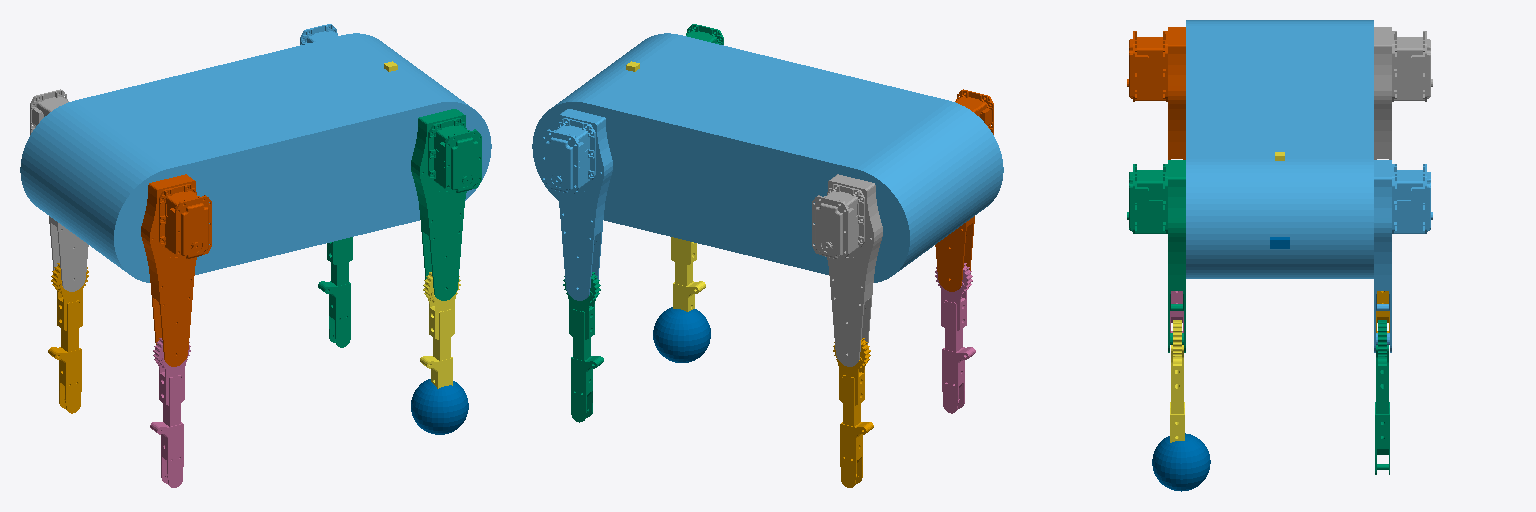
URDF robot description (quadrupedal_robot):
<?xml version="1.0" ?>
<!-- =================================================================================== -->
<!-- |    This document was autogenerated by xacro from quadrupedal_robot.xacro        | -->
<!-- |    EDITING THIS FILE BY HAND IS NOT RECOMMENDED                                 | -->
<!-- =================================================================================== -->
<robot name="quadrupedal_robot" xmlns:xacro="https://ros.org/wiki/xacro">
  <link name="world"/>
  <joint name="world_joint" type="floating">
    <parent link="world"/>
    <child link="body"/>
    <origin rpy="0 0 0" xyz="0 0 0"/>
  </joint>
  <link name="body">
    <inertial>
      <mass value="1.43533"/>
      <inertia ixx="0.013997409758" ixy="0.0" ixz="0.0" iyy="0.032039793016" iyz="0.0" izz="0.029239204023"/>
    </inertial>
    <visual>
      <geometry>
        <mesh filename="package://quadrupedal_description/meshes/stl/body_assem_alt.stl"/>
      </geometry>
    </visual>
    <collision>
      <geometry>
        <mesh filename="package://quadrupedal_description/meshes/stl/body_assem_alt.stl"/>
      </geometry>
    </collision>
  </link>
  <gazebo reference="body">
    <mu1 value="1000.0"/>
    <mu2 value="2000.0"/>
    <kp value="1000000"/>
    <kd value="1.0"/>
    <material>Gazebo/Blue</material>
  </gazebo>
  <joint name="body_joint1" type="revolute">
    <parent link="body"/>
    <child link="upper_link1"/>
    <axis xyz="0 1 0"/>
    <origin rpy="0 0 0" xyz="0.15 -0.107 0.06"/>
    <dynamics damping="0.05"/>
    <limit effort="8.0" lower="-2.5" upper="2.5" velocity="6.0"/>
  </joint>
  <transmission name="body_joint_trans1">
    <type>transmission_interface/SimpleTransmission</type>
    <joint name="body_joint1">
      <hardwareInterface>hardware_interface/EffortJointInterface</hardwareInterface>
    </joint>
    <actuator name="body_motor1">
      <hardwareInterface>hardware_interface/EffortJointInterface</hardwareInterface>
      <mechanismReduction>1</mechanismReduction>
    </actuator>
  </transmission>
  <link name="upper_link1">
    <inertial>
      <mass value="0.307"/>
      <inertia ixx="0.0005696021" ixy="-9.8e-11" ixz="-2.43e-10" iyy="0.000513795097" iyz="7.4601225e-05" izz="0.000137674903"/>
    </inertial>
    <visual>
      <geometry>
        <mesh filename="package://quadrupedal_description/meshes/stl/upper_leg_alt.stl"/>
      </geometry>
    </visual>
    <collision>
      <geometry>
        <mesh filename="package://quadrupedal_description/meshes/stl/upper_leg_alt.stl"/>
      </geometry>
    </collision>
  </link>
  <gazebo reference="upper_link1">
    <mu1 value="1000.0"/>
    <mu2 value="2000.0"/>
    <kp value="1000000"/>
    <kd value="1.0"/>
    <material>Gazebo/Red</material>
  </gazebo>
  <joint name="upper_joint1" type="revolute">
    <parent link="upper_link1"/>
    <child link="under_link1"/>
    <axis xyz="0 1 0"/>
    <origin rpy="0 0 0" xyz="0 0.00425 -0.13"/>
    <dynamics damping="0.05"/>
    <limit effort="8.0" lower="-2.5" upper="2.5" velocity="6.0"/>
  </joint>
  <transmission name="upper_joint_trans1">
    <type>transmission_interface/SimpleTransmission</type>
    <joint name="upper_joint1">
      <hardwareInterface>hardware_interface/EffortJointInterface</hardwareInterface>
    </joint>
    <actuator name="upper_motor1">
      <hardwareInterface>hardware_interface/EffortJointInterface</hardwareInterface>
      <mechanismReduction>1</mechanismReduction>
    </actuator>
  </transmission>
  <link name="under_link1">
    <inertial>
      <mass value="0.080527"/>
      <inertia ixx="0.000400596397" ixy="1.83755e-07" ixz="-3.142145e-06" iyy="0.00040165997" iyz="2.0733392e-05" izz="6.738557e-06"/>
    </inertial>
    <visual>
      <geometry>
        <mesh filename="package://quadrupedal_description/meshes/stl/under_leg_alt.stl"/>
      </geometry>
    </visual>
    <collision>
      <geometry>
        <mesh filename="package://quadrupedal_description/meshes/stl/under_leg_alt.stl"/>
      </geometry>
    </collision>
  </link>
  <gazebo reference="under_link1">
    <mu1 value="1000.0"/>
    <mu2 value="2000.0"/>
    <kp value="1000000"/>
    <kd value="1.0"/>
    <material>Gazebo/Blue</material>
  </gazebo>
  <joint name="tip_joint1" type="fixed">
    <parent link="under_link1"/>
    <child link="tip_link1"/>
    <axis xyz="0 1 0"/>
    <origin rpy="0 0 0" xyz="0 0.0085 -0.13"/>
    <dynamics damping="0.05"/>
    <limit effort="8.0" lower="-2.5" upper="2.5" velocity="6.0"/>
  </joint>
  <link name="tip_link1">
    <inertial>
      <mass value="0.02"/>
      <inertia ixx="0.0003136" ixy="0.0" ixz="0.0" iyy="0.0003136" iyz="0.0" izz="0.0003136"/>
    </inertial>
    <visual>
      <geometry>
        <sphere radius="0.028"/>
      </geometry>
    </visual>
    <collision>
      <geometry>
        <sphere radius="0.028"/>
      </geometry>
    </collision>
  </link>
  <gazebo reference="tip_link1">
    <mu1 value="1000.0"/>
    <mu2 value="2000.0"/>
    <kp value="1000000"/>
    <kd value="1.0"/>
    <material>Gazebo/Blue</material>
  </gazebo>
  <joint name="body_joint2" type="revolute">
    <parent link="body"/>
    <child link="upper_link2"/>
    <axis xyz="0 1 0"/>
    <origin rpy="0 0 0" xyz="-0.15 -0.107 0.06"/>
    <dynamics damping="0.05"/>
    <limit effort="8.0" lower="-2.5" upper="2.5" velocity="6.0"/>
  </joint>
  <transmission name="body_joint_trans2">
    <type>transmission_interface/SimpleTransmission</type>
    <joint name="body_joint2">
      <hardwareInterface>hardware_interface/EffortJointInterface</hardwareInterface>
    </joint>
    <actuator name="body_motor2">
      <hardwareInterface>hardware_interface/EffortJointInterface</hardwareInterface>
      <mechanismReduction>1</mechanismReduction>
    </actuator>
  </transmission>
  <link name="upper_link2">
    <inertial>
      <mass value="0.307"/>
      <inertia ixx="0.0005696021" ixy="-9.8e-11" ixz="-2.43e-10" iyy="0.000513795097" iyz="7.4601225e-05" izz="0.000137674903"/>
    </inertial>
    <visual>
      <geometry>
        <mesh filename="package://quadrupedal_description/meshes/stl/upper_leg_alt.stl"/>
      </geometry>
    </visual>
    <collision>
      <geometry>
        <mesh filename="package://quadrupedal_description/meshes/stl/upper_leg_alt.stl"/>
      </geometry>
    </collision>
  </link>
  <gazebo reference="upper_link2">
    <mu1 value="1000.0"/>
    <mu2 value="2000.0"/>
    <kp value="1000000"/>
    <kd value="1.0"/>
    <material>Gazebo/Red</material>
  </gazebo>
  <joint name="upper_joint2" type="revolute">
    <parent link="upper_link2"/>
    <child link="under_link2"/>
    <axis xyz="0 1 0"/>
    <origin rpy="0 0 0" xyz="0 0.00425 -0.13"/>
    <dynamics damping="0.05"/>
    <limit effort="8.0" lower="-2.5" upper="2.5" velocity="6.0"/>
  </joint>
  <transmission name="upper_joint_trans2">
    <type>transmission_interface/SimpleTransmission</type>
    <joint name="upper_joint2">
      <hardwareInterface>hardware_interface/EffortJointInterface</hardwareInterface>
    </joint>
    <actuator name="upper_motor2">
      <hardwareInterface>hardware_interface/EffortJointInterface</hardwareInterface>
      <mechanismReduction>1</mechanismReduction>
    </actuator>
  </transmission>
  <link name="under_link2">
    <inertial>
      <mass value="0.080527"/>
      <inertia ixx="0.000400596397" ixy="1.83755e-07" ixz="-3.142145e-06" iyy="0.00040165997" iyz="2.0733392e-05" izz="6.738557e-06"/>
    </inertial>
    <visual>
      <geometry>
        <mesh filename="package://quadrupedal_description/meshes/stl/under_leg_alt.stl"/>
      </geometry>
    </visual>
    <collision>
      <geometry>
        <mesh filename="package://quadrupedal_description/meshes/stl/under_leg_alt.stl"/>
      </geometry>
    </collision>
  </link>
  <gazebo reference="under_link2">
    <mu1 value="1000.0"/>
    <mu2 value="2000.0"/>
    <kp value="1000000"/>
    <kd value="1.0"/>
    <material>Gazebo/Blue</material>
  </gazebo>
  <joint name="body_joint3" type="revolute">
    <parent link="body"/>
    <child link="upper_link3"/>
    <axis xyz="0 1 0"/>
    <origin rpy="0 0 0" xyz="-0.15 0.107 0.06"/>
    <dynamics damping="0.05"/>
    <limit effort="8.0" lower="-2.5" upper="2.5" velocity="6.0"/>
  </joint>
  <transmission name="body_joint_trans3">
    <type>transmission_interface/SimpleTransmission</type>
    <joint name="body_joint3">
      <hardwareInterface>hardware_interface/EffortJointInterface</hardwareInterface>
    </joint>
    <actuator name="body_motor3">
      <hardwareInterface>hardware_interface/EffortJointInterface</hardwareInterface>
      <mechanismReduction>1</mechanismReduction>
    </actuator>
  </transmission>
  <link name="upper_link3">
    <inertial>
      <mass value="0.307"/>
      <inertia ixx="0.000569601994" ixy="1e-10" ixz="-2.43e-10" iyy="0.000513795026" iyz="-7.4601184e-05" izz="0.000137674854"/>
    </inertial>
    <visual>
      <geometry>
        <mesh filename="package://quadrupedal_description/meshes/stl/upper_leg_left_ease_alt.stl"/>
      </geometry>
    </visual>
    <collision>
      <geometry>
        <mesh filename="package://quadrupedal_description/meshes/stl/upper_leg_left_ease_alt.stl"/>
      </geometry>
    </collision>
  </link>
  <gazebo reference="upper_link3">
    <mu1 value="1000.0"/>
    <mu2 value="2000.0"/>
    <kp value="1000000"/>
    <kd value="1.0"/>
    <material>Gazebo/Red</material>
  </gazebo>
  <joint name="upper_joint3" type="revolute">
    <parent link="upper_link3"/>
    <child link="under_link3"/>
    <axis xyz="0 1 0"/>
    <origin rpy="0 0 0" xyz="0 -0.00425 -0.13"/>
    <dynamics damping="0.05"/>
    <limit effort="8.0" lower="-2.5" upper="2.5" velocity="6.0"/>
  </joint>
  <transmission name="upper_joint_trans3">
    <type>transmission_interface/SimpleTransmission</type>
    <joint name="upper_joint3">
      <hardwareInterface>hardware_interface/EffortJointInterface</hardwareInterface>
    </joint>
    <actuator name="upper_motor3">
      <hardwareInterface>hardware_interface/EffortJointInterface</hardwareInterface>
      <mechanismReduction>1</mechanismReduction>
    </actuator>
  </transmission>
  <link name="under_link3">
    <inertial>
      <mass value="0.080527"/>
      <inertia ixx="0.000400596397" ixy="-1.83755e-07" ixz="-3.142145e-06" iyy="0.00040165997" iyz="-2.0733392e-05" izz="6.738557e-06"/>
    </inertial>
    <visual>
      <geometry>
        <mesh filename="package://quadrupedal_description/meshes/stl/under_leg_left_ease_alt.stl"/>
      </geometry>
    </visual>
    <collision>
      <geometry>
        <mesh filename="package://quadrupedal_description/meshes/stl/under_leg_left_ease_alt.stl"/>
      </geometry>
    </collision>
  </link>
  <gazebo reference="under_link3">
    <mu1 value="1000.0"/>
    <mu2 value="2000.0"/>
    <kp value="1000000"/>
    <kd value="1.0"/>
    <material>Gazebo/Blue</material>
  </gazebo>
  <joint name="body_joint4" type="revolute">
    <parent link="body"/>
    <child link="upper_link4"/>
    <axis xyz="0 1 0"/>
    <origin rpy="0 0 0" xyz="0.15 0.107 0.06"/>
    <dynamics damping="0.05"/>
    <limit effort="8.0" lower="-2.5" upper="2.5" velocity="6.0"/>
  </joint>
  <transmission name="body_joint_trans4">
    <type>transmission_interface/SimpleTransmission</type>
    <joint name="body_joint4">
      <hardwareInterface>hardware_interface/EffortJointInterface</hardwareInterface>
    </joint>
    <actuator name="body_motor4">
      <hardwareInterface>hardware_interface/EffortJointInterface</hardwareInterface>
      <mechanismReduction>1</mechanismReduction>
    </actuator>
  </transmission>
  <link name="upper_link4">
    <inertial>
      <mass value="0.307"/>
      <inertia ixx="0.000569601994" ixy="1e-10" ixz="-2.43e-10" iyy="0.000513795026" iyz="-7.4601184e-05" izz="0.000137674854"/>
    </inertial>
    <visual>
      <geometry>
        <mesh filename="package://quadrupedal_description/meshes/stl/upper_leg_left_ease_alt.stl"/>
      </geometry>
    </visual>
    <collision>
      <geometry>
        <mesh filename="package://quadrupedal_description/meshes/stl/upper_leg_left_ease_alt.stl"/>
      </geometry>
    </collision>
  </link>
  <gazebo reference="upper_link4">
    <mu1 value="1000.0"/>
    <mu2 value="2000.0"/>
    <kp value="1000000"/>
    <kd value="1.0"/>
    <material>Gazebo/Red</material>
  </gazebo>
  <joint name="upper_joint4" type="revolute">
    <parent link="upper_link4"/>
    <child link="under_link4"/>
    <axis xyz="0 1 0"/>
    <origin rpy="0 0 0" xyz="0 -0.00425 -0.13"/>
    <dynamics damping="0.05"/>
    <limit effort="8.0" lower="-2.5" upper="2.5" velocity="6.0"/>
  </joint>
  <transmission name="upper_joint_trans4">
    <type>transmission_interface/SimpleTransmission</type>
    <joint name="upper_joint4">
      <hardwareInterface>hardware_interface/EffortJointInterface</hardwareInterface>
    </joint>
    <actuator name="upper_motor4">
      <hardwareInterface>hardware_interface/EffortJointInterface</hardwareInterface>
      <mechanismReduction>1</mechanismReduction>
    </actuator>
  </transmission>
  <link name="under_link4">
    <inertial>
      <mass value="0.080527"/>
      <inertia ixx="0.000400596397" ixy="-1.83755e-07" ixz="-3.142145e-06" iyy="0.00040165997" iyz="-2.0733392e-05" izz="6.738557e-06"/>
    </inertial>
    <visual>
      <geometry>
        <mesh filename="package://quadrupedal_description/meshes/stl/under_leg_left_ease_alt.stl"/>
      </geometry>
    </visual>
    <collision>
      <geometry>
        <mesh filename="package://quadrupedal_description/meshes/stl/under_leg_left_ease_alt.stl"/>
      </geometry>
    </collision>
  </link>
  <gazebo reference="under_link4">
    <mu1 value="1000.0"/>
    <mu2 value="2000.0"/>
    <kp value="1000000"/>
    <kd value="1.0"/>
    <material>Gazebo/Blue</material>
  </gazebo>
  <!--IMU-->
  <joint name="imu_joint" type="fixed">
    <parent link="body"/>
    <child link="imu_link"/>
    <origin rpy="0 0 0" xyz="0.15 0 0.12"/>
  </joint>
  <link name="imu_link">
    <visual>
      <geometry>
        <box size="0.01 0.01 0.01"/>
      </geometry>
    </visual>
  </link>
  <gazebo reference="imu_link">
    <gravity>true</gravity>
    <sensor name="imu_sensor" type="imu">
      <always_on>true</always_on>
      <update_rate>100</update_rate>
      <visualize>true</visualize>
      <topic>data</topic>
      <plugin filename="libgazebo_ros_imu_sensor.so" name="imu_plugin">
        <topicName>imu</topicName>
        <bodyName>imu_link</bodyName>
        <updateRateHZ>10.0</updateRateHZ>
        <gaussianNoise>0.0</gaussianNoise>
        <xyzOffset>0 0 0</xyzOffset>
        <rpyOffset>0 0 0</rpyOffset>
        <frameName>imu_link</frameName>
      </plugin>
      <pose>0 0 0 0 0 0</pose>
    </sensor>
  </gazebo>
  <!--Depth camera (unable)-->
  <joint name="depth_camera_joint" type="fixed">
    <parent link="body"/>
    <child link="depth_link"/>
    <origin rpy="0 0 0" xyz="0.21 0 0.06"/>
  </joint>
  <link name="depth_link">
    <visual>
      <geometry>
        <box size="0.01 0.02 0.01"/>
      </geometry>
    </visual>
  </link>
  <gazebo reference="depth_link">
    <sensor name="depth_camera" type="depth">
      <update_rate>20</update_rate>
      <camera>
        <horizontal_fov>1.047198</horizontal_fov>
        <image>
          <width>640</width>
          <height>480</height>
          <format>R8G8B8</format>
        </image>
        <clip>
          <near>0.05</near>
          <far>3</far>
        </clip>
      </camera>
      <plugin filename="libgazebo_ros_openni_kinect.so" name="depth_camera_controller">
        <baseline>0.2</baseline>
        <alwaysOn>true</alwaysOn>
        <updateRate>1.0</updateRate>
        <cameraName>depth_camera_ir</cameraName>
        <imageTopicName>/depth_camera/depth/image_raw</imageTopicName>
        <cameraInfoTopicName>/depth_camera/depth/camera_info</cameraInfoTopicName>
        <depthImageTopicName>/depth_camera/depth/image_raw</depthImageTopicName>
        <depthImageInfoTopicName>/depth_camera/depth/camera_info</depthImageInfoTopicName>
        <pointCloudTopicName>/depth_camera/depth/points</pointCloudTopicName>
        <frameName>depth_camera</frameName>
        <pointCloudCutoff>0.5</pointCloudCutoff>
        <pointCloudCutoffMax>3.0</pointCloudCutoffMax>
        <distortionK1>0.00000001</distortionK1>
        <distortionK2>0.00000001</distortionK2>
        <distortionK3>0.00000001</distortionK3>
        <distortionT1>0.00000001</distortionT1>
        <distortionT2>0.00000001</distortionT2>
        <CxPrime>0</CxPrime>
        <Cx>0</Cx>
        <Cy>0</Cy>
        <focalLength>0</focalLength>
        <hackBaseline>0</hackBaseline>
      </plugin>
    </sensor>
  </gazebo>
  <gazebo>
    <plugin filename="libgazebo_ros_control.so" name="gazebo_ros_control">
      <robotNamespace>/quadrupedal_robot</robotNamespace>
    </plugin>
  </gazebo>
  <gazebo>
    <plugin filename="libgazebo_ros_joint_state_publisher.so" name="joint_state_publisher">
      <robotNamespace>/quadrupedal_robot</robotNamespace>
      <jointName>body_joint1, body_joint2, body_joint3, body_joint4, upper_joint1, upper_joint2, upper_joint3, upper_joint4</jointName>
      <updateRate>60.0</updateRate>
      <alwaysOn>true</alwaysOn>
    </plugin>
  </gazebo>
</robot>

--- Render facts (derived) ---
3 views of the same robot in one strip: view 1: azimuth 30°, elevation 25°; view 2: azimuth 150°, elevation 25°; view 3: azimuth 270°, elevation 25° (orthographic).
Robot: quadrupedal_robot — 13 links, 12 joints (8 revolute, 3 fixed, 1 floating); root link world; default pose: all joints at 0.
Visible links, largest first — view 1: body, upper_link1, upper_link2, under_link2, under_link3, upper_link3, tip_link1, under_link4, under_link1; view 2: body, upper_link4, upper_link3, under_link3, under_link2, under_link4, upper_link2, tip_link1, under_link1; view 3: body, upper_link1, upper_link4, upper_link2, upper_link3, tip_link1, under_link4, under_link1.
Link boxes in pixels (<box>): body: <box>20,33,491,282</box>; upper_link1: <box>411,109,481,300</box>; upper_link2: <box>141,174,211,366</box>; under_link2: <box>150,338,190,487</box>; under_link3: <box>48,263,88,413</box>; upper_link3: <box>30,89,88,291</box>; tip_link1: <box>411,379,468,434</box>; under_link4: <box>318,237,352,347</box>; under_link1: <box>420,272,460,388</box>; body: <box>532,33,1003,282</box>; upper_link4: <box>542,109,612,300</box>; upper_link3: <box>812,174,882,366</box>; under_link3: <box>833,338,873,487</box>; under_link2: <box>935,263,975,413</box>; under_link4: <box>563,272,603,422</box>; upper_link2: <box>935,89,993,291</box>; tip_link1: <box>653,307,710,362</box>; under_link1: <box>671,237,705,311</box>; body: <box>1186,20,1373,278</box>; upper_link1: <box>1127,160,1185,352</box>; upper_link4: <box>1374,160,1432,352</box>; upper_link2: <box>1127,27,1185,159</box>; upper_link3: <box>1374,27,1432,159</box>; tip_link1: <box>1152,433,1210,491</box>; under_link4: <box>1375,320,1389,474</box>; under_link1: <box>1170,320,1184,442</box>.
Bounding box of the posed robot: 0.4249 × 0.292 × 0.353 m (x, y, z).
Meshes: 5 distinct files referenced, 9 mesh visuals loaded (5 binary STL).